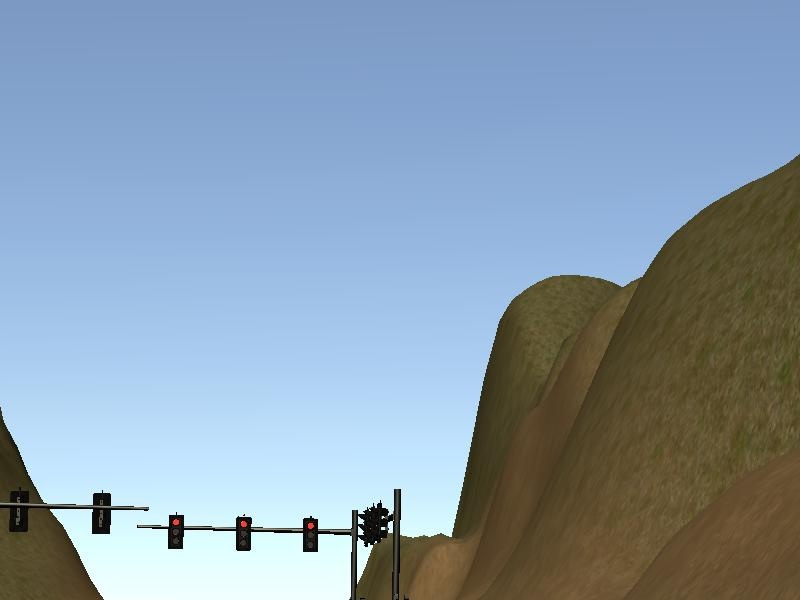red: (293, 514, 321, 555), (163, 511, 187, 555), (233, 511, 254, 558)
